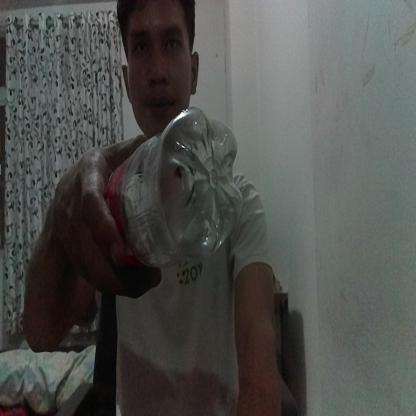plastic_bottles: (101, 105, 245, 274)
